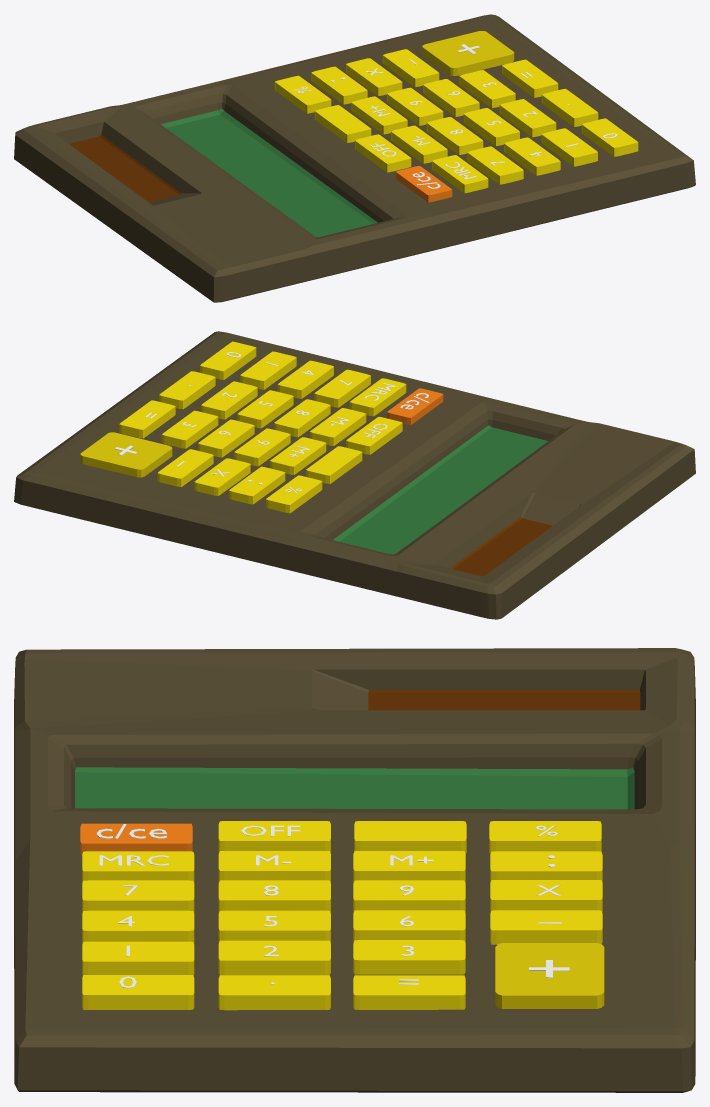
Rendered from calcuator.fbx.
3 views of the same model, one above another, from view 1: azimuth 30°, elevation 25°; view 2: azimuth 150°, elevation 25°; view 3: azimuth 270°, elevation 25° (orthographic). The views are drawn at different scales.
Visible parts, largest first — view 1: Cube, Cube.023, Cube.044, Cube.036, Cube.002, Cube.038, Cube.034, Cube.037, Cube.026, Cube.029, Cube.031, Cube.025 (+12 smaller); view 2: Cube, Cube.023, Cube.042, Cube.033, Cube.030, Cube.026, Cube.044, Cube.028, Cube.034, Cube.027, Cube.038, Cube.002 (+12 smaller); view 3: Cube, Cube.023, Cube.037, Cube.034, Cube.033, Cube.042, Cube.036, Cube.044, Cube.026, Cube.002, Cube.038, Cube.039 (+12 smaller).
Boxes of the visible parts, x1,y1,x2,y2 form: Cube: [14, 14, 695, 302]; Cube.023: [422, 31, 514, 75]; Cube.044: [541, 128, 597, 166]; Cube.036: [581, 118, 638, 156]; Cube.002: [504, 137, 560, 175]; Cube.038: [467, 146, 523, 184]; Cube.034: [541, 88, 598, 126]; Cube.037: [499, 99, 556, 137]; Cube.026: [382, 49, 439, 86]; Cube.029: [314, 105, 371, 142]; Cube.031: [355, 134, 411, 172]; Cube.025: [426, 117, 483, 154]; Cube: [14, 331, 695, 619]; Cube.023: [80, 432, 172, 477]; Cube.042: [161, 410, 218, 448]; Cube.033: [119, 400, 175, 438]; Cube.030: [229, 466, 285, 504]; Cube.026: [157, 449, 213, 486]; Cube.044: [240, 351, 296, 389]; Cube.028: [266, 475, 322, 513]; Cube.034: [159, 371, 215, 409]; Cube.027: [194, 458, 250, 495]; Cube.038: [314, 369, 370, 407]; Cube.002: [277, 360, 333, 398]; Cube: [14, 648, 695, 1092]; Cube.023: [495, 943, 604, 1008]; Cube.037: [218, 940, 330, 975]; Cube.034: [218, 975, 330, 1010]; Cube.033: [353, 975, 465, 1009]; Cube.042: [353, 940, 465, 974]; Cube.036: [82, 975, 194, 1009]; Cube.044: [82, 941, 194, 975]; Cube.026: [490, 910, 602, 944]; Cube.002: [82, 910, 194, 943]; Cube.038: [82, 880, 194, 912]; Cube.039: [218, 910, 330, 942].
Bounding box in the file's own units: 26.22 × 2.08 × 18.85.
